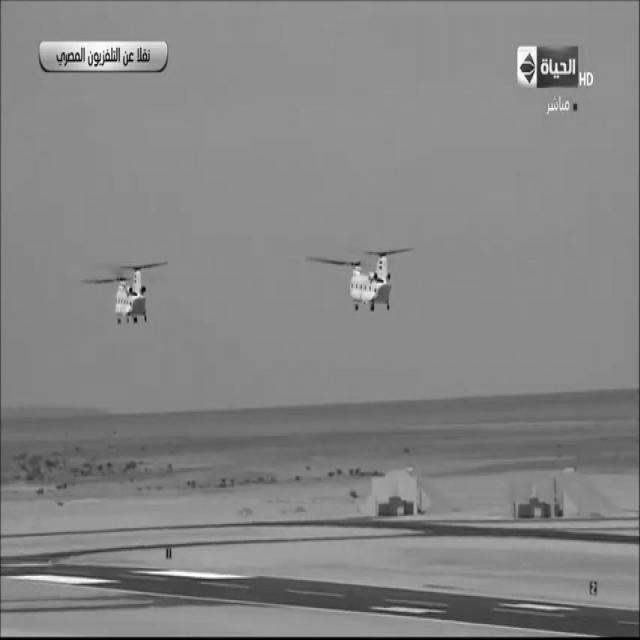helikopter: (300, 236, 426, 345), (88, 249, 178, 343)
